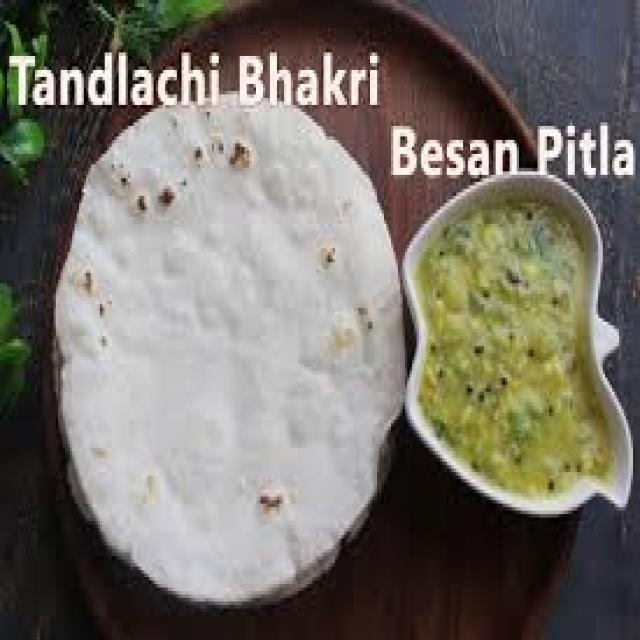RICE BHAKRI: (54, 91, 405, 598)
